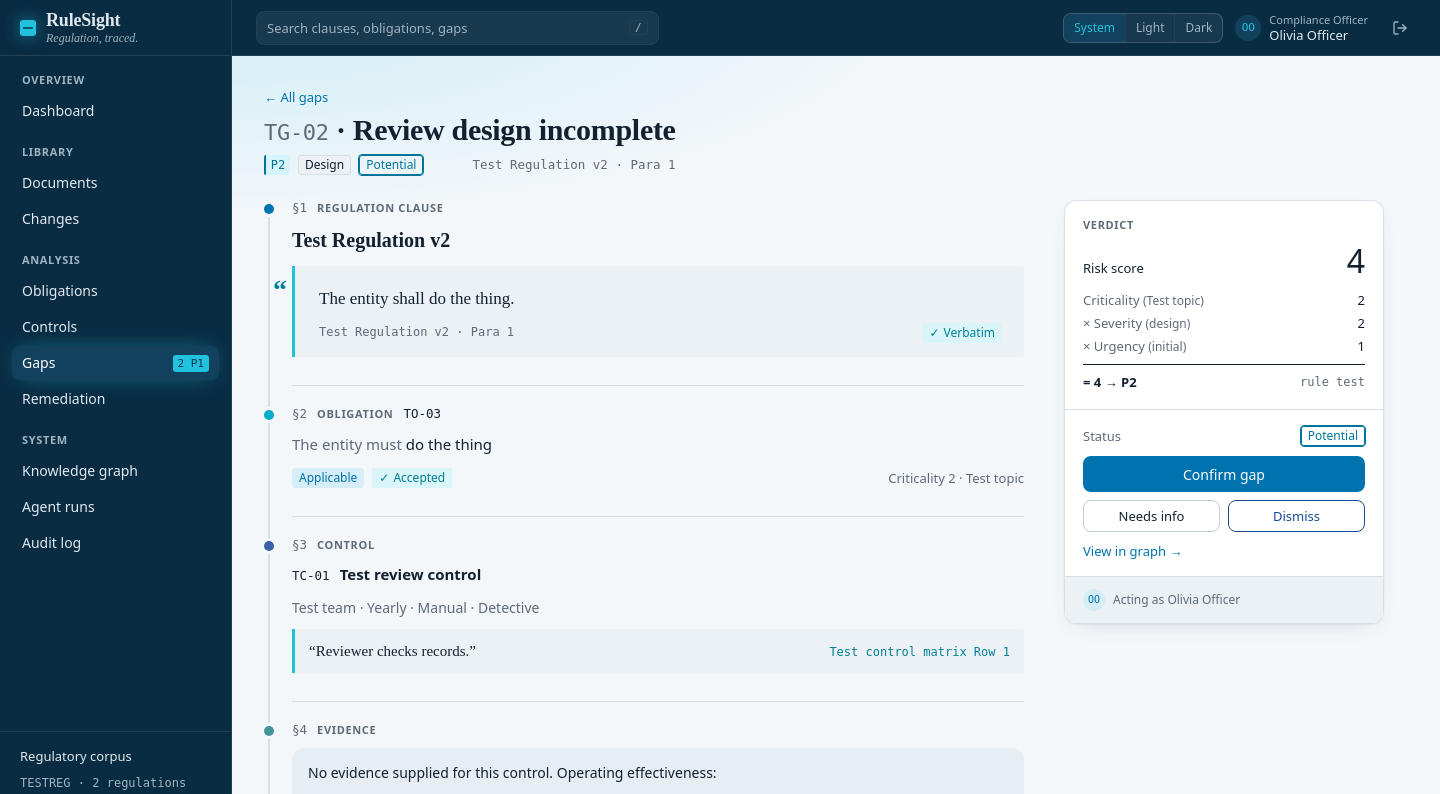
Test: Gap trace › requires a reason before a gap can be dismissed
The width and height of the screenshot is (1440, 794).
Click the button "Dismiss": (1296, 516) x1=1228 y1=500 x2=1365 y2=532
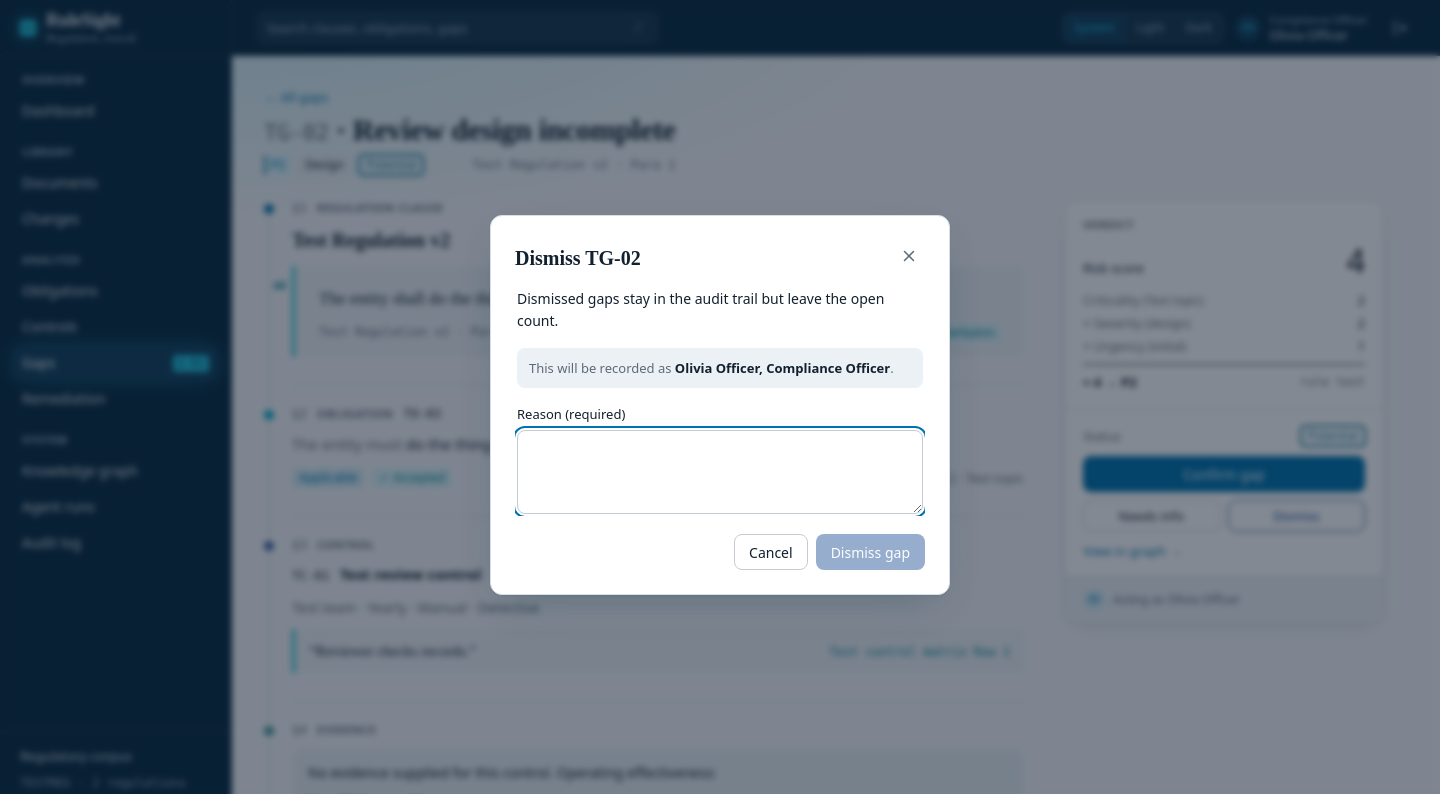
Now the button "Dismiss gap" is disabled, box x1=816 y1=534 x2=925 y2=570
In the text box labelled "Reason (required)": (720, 472) x1=517 y1=430 x2=923 y2=514, type "Threshold already lowered"
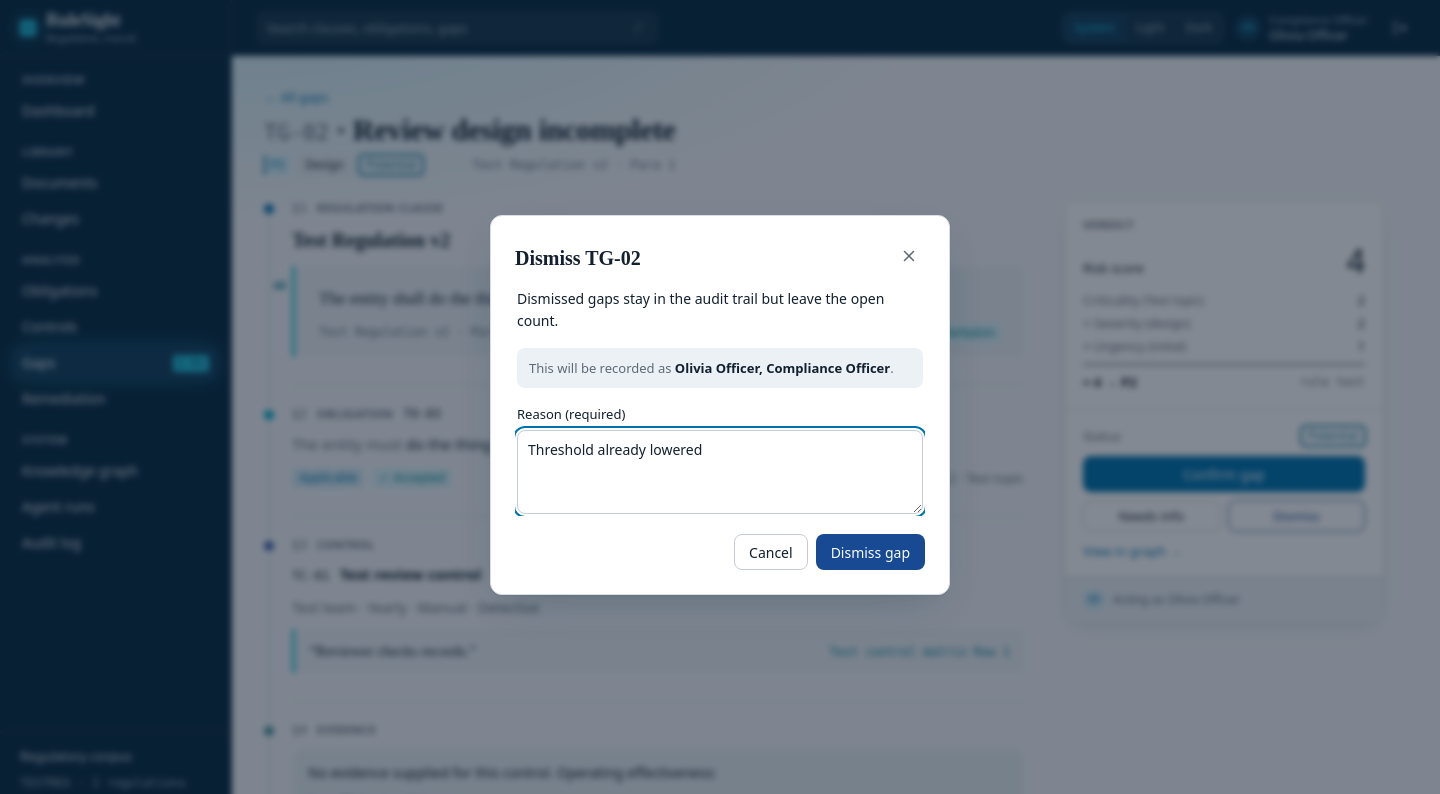
Click the button "Dismiss gap": (870, 552) x1=816 y1=534 x2=925 y2=570
(page scrolled)
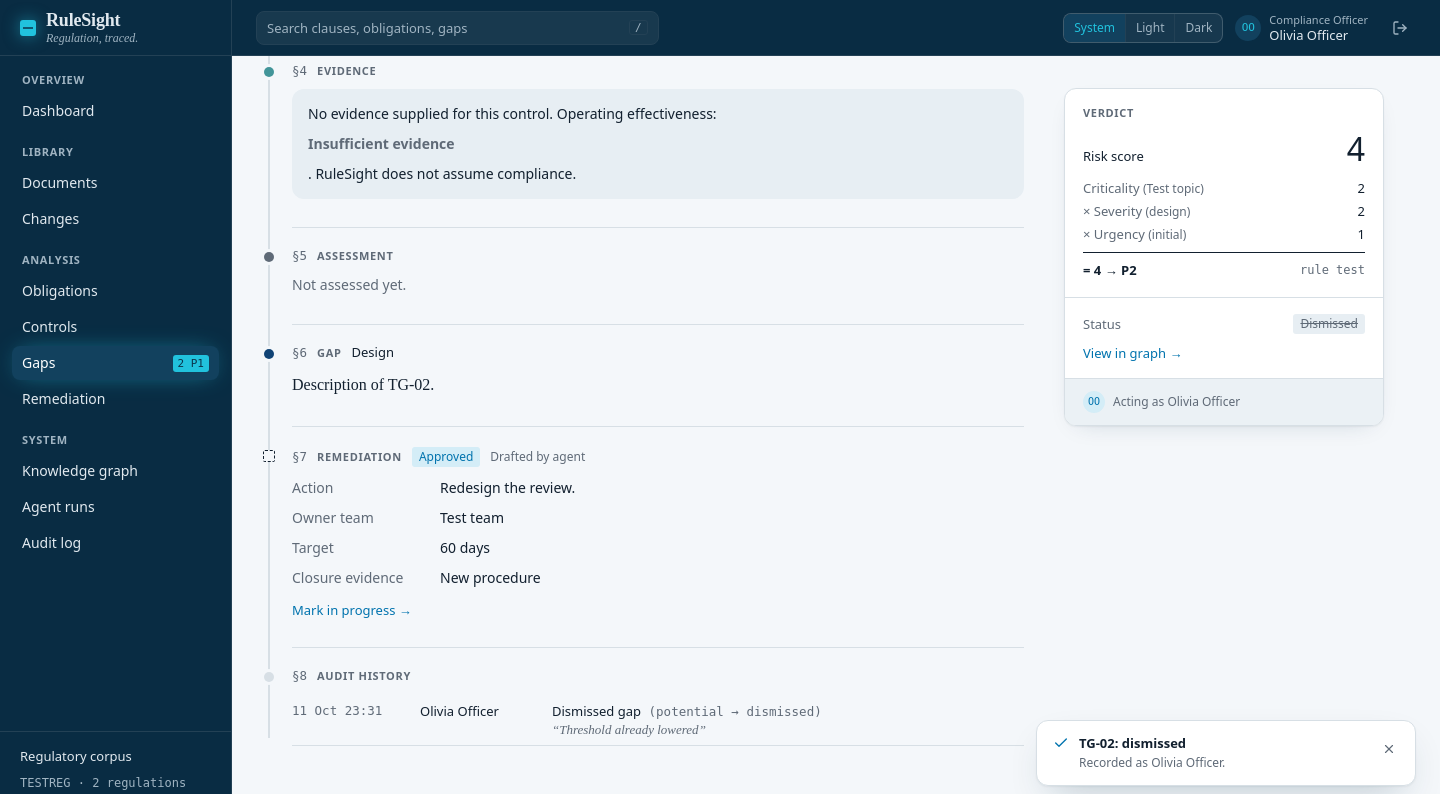
Now the text "“Threshold already lowered”" is shown, box x1=552 y1=722 x2=706 y2=737
